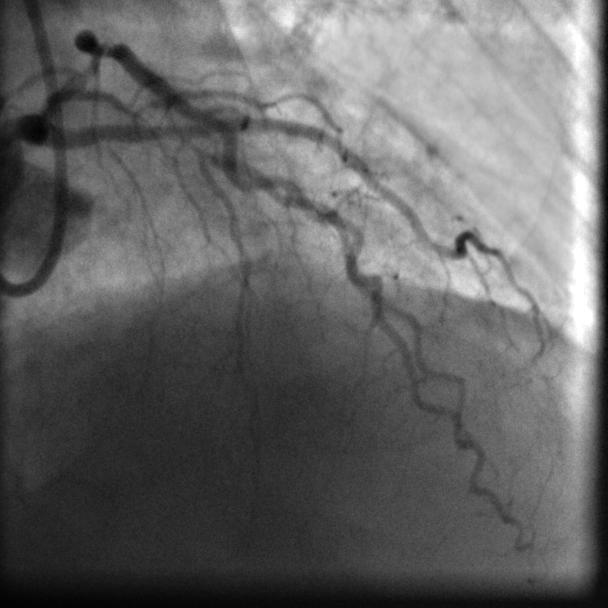Stenosis: (83, 29, 119, 63)
